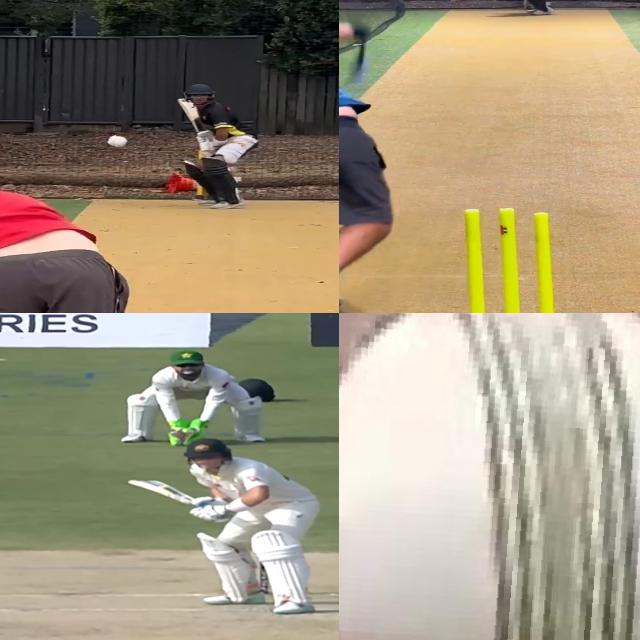Cricket ball: (339, 313, 640, 640), (107, 134, 129, 147)
